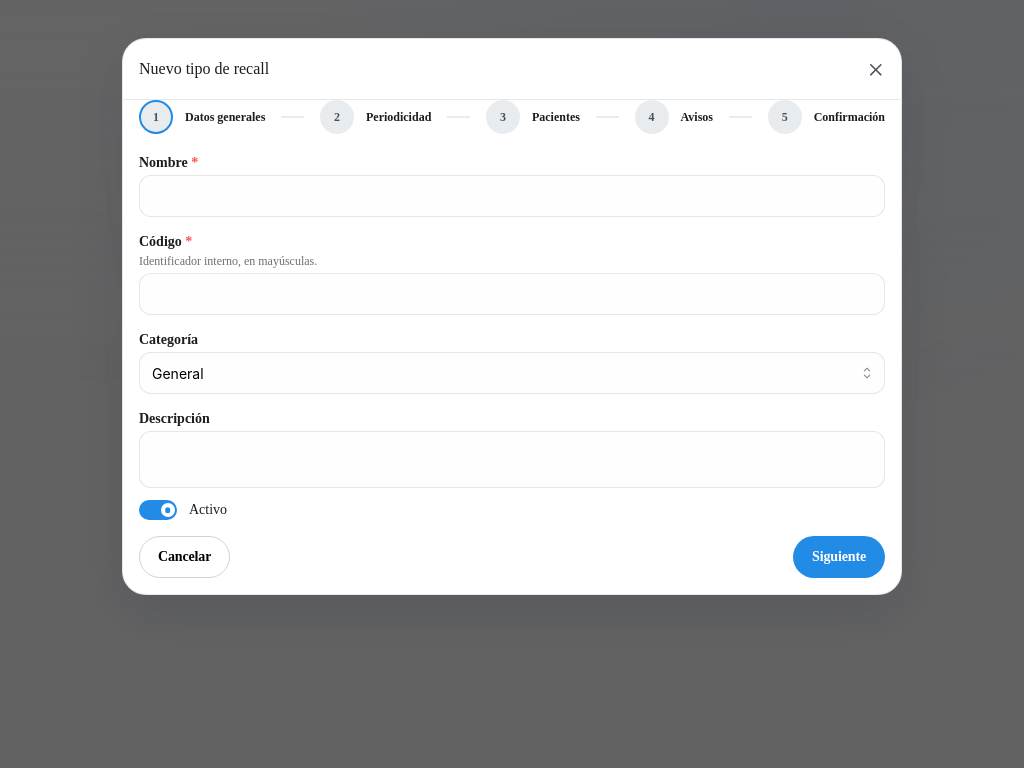
Test: RecallTemplateWizard › exige canal y días cuando se preparan avisos
Type "Higiene semestral" into the field labelled "Nombre *" at (512, 196), box [139, 175, 885, 217]
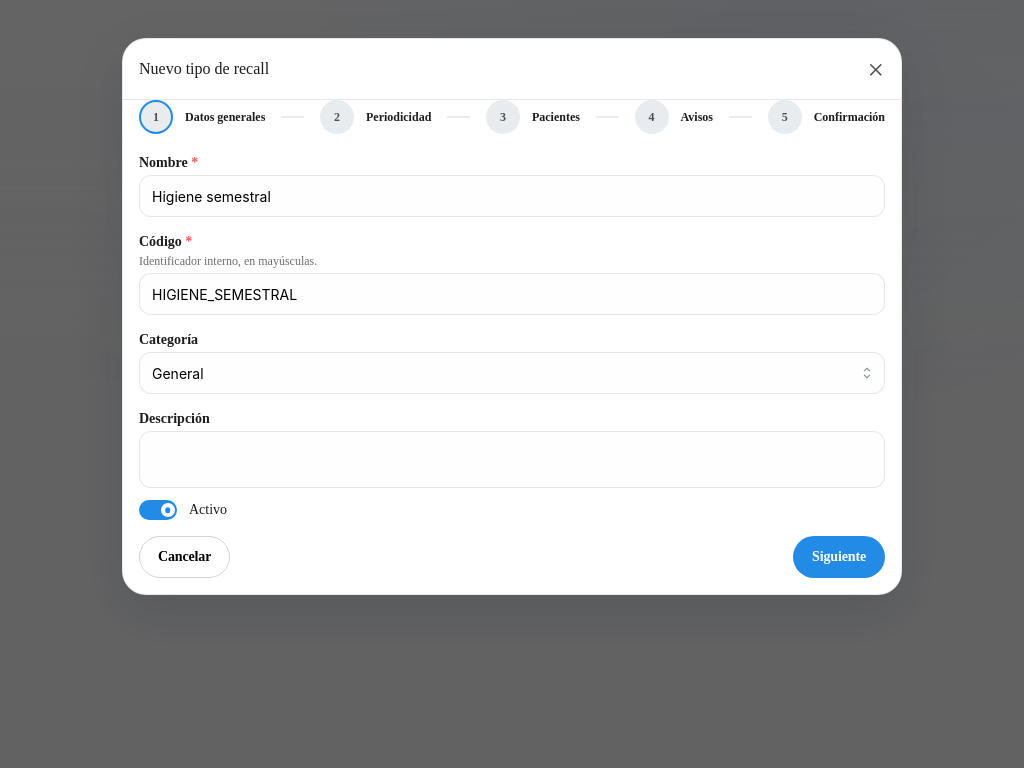
Click the button "Siguiente" at (839, 557), box [793, 536, 885, 578]
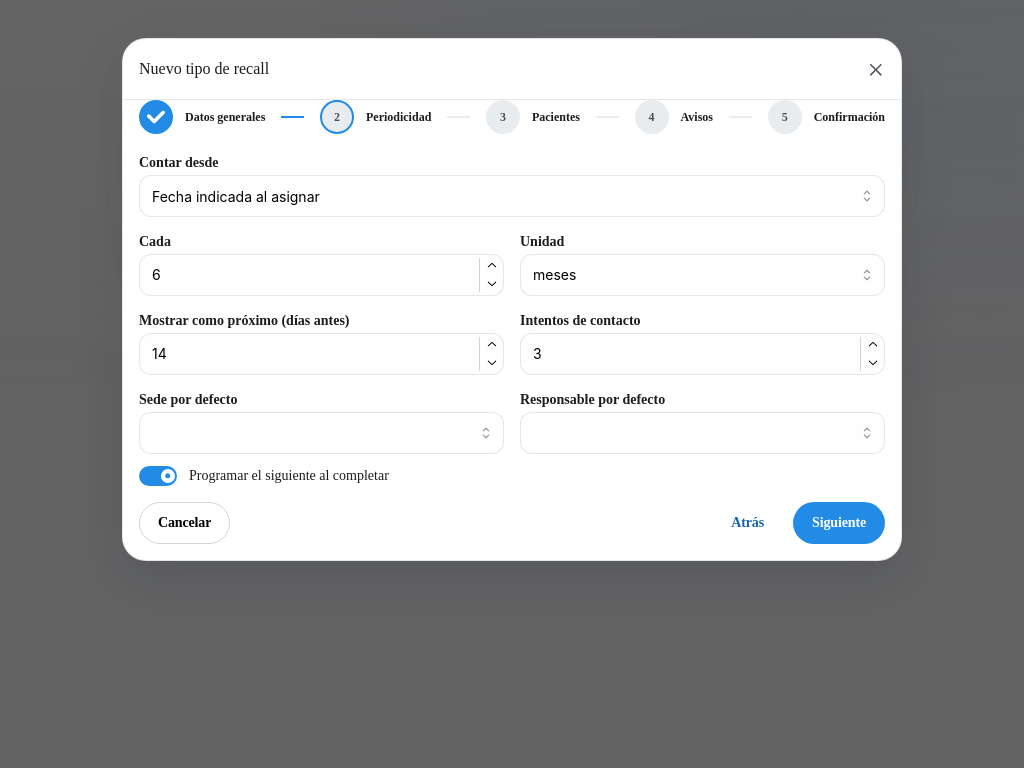
Click the button "Siguiente" at (839, 523), box [793, 502, 885, 544]
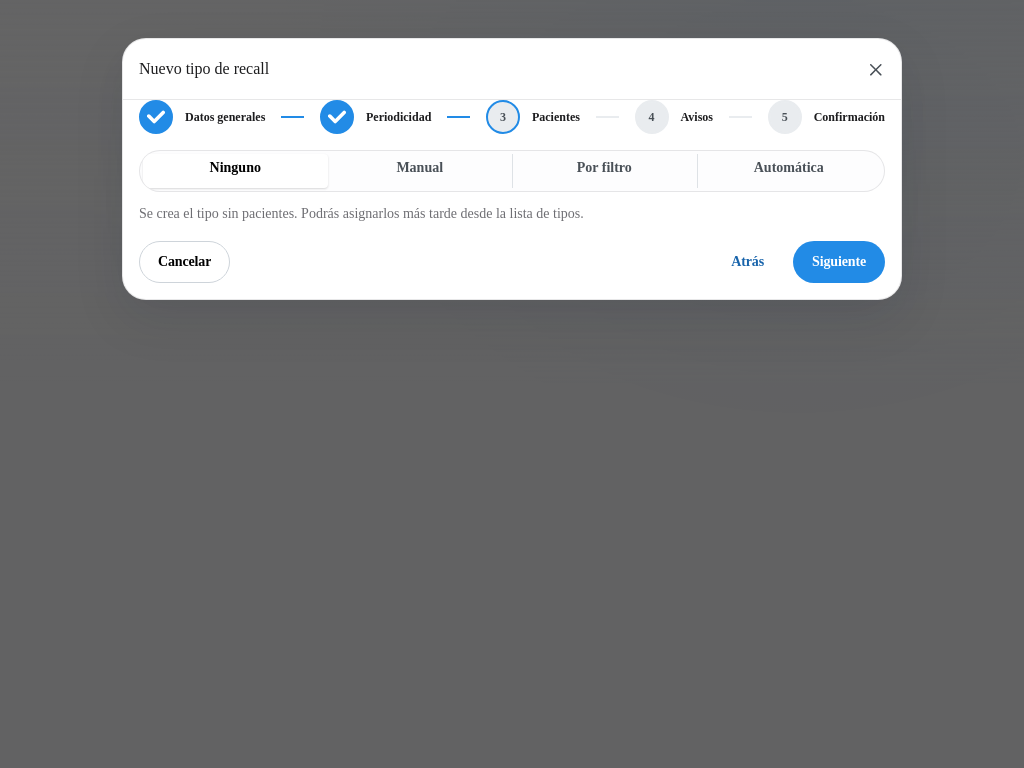
Click the button "Siguiente" at (839, 262), box [793, 241, 885, 283]
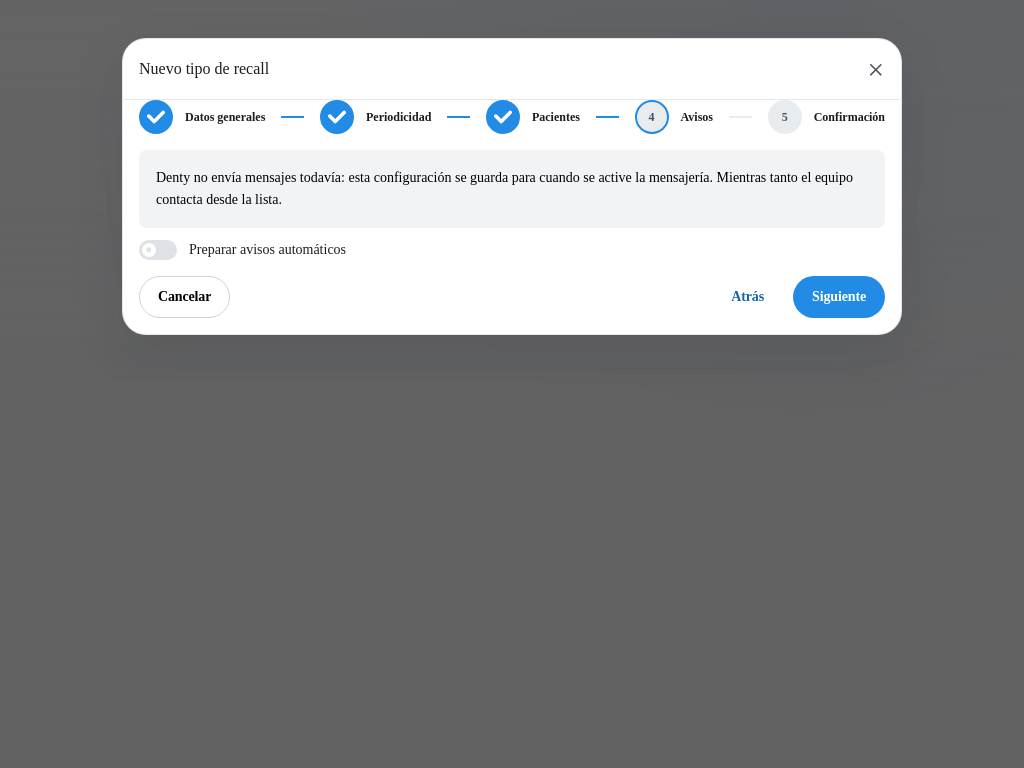
Now the text "Denty no envía mensajes" is shown, box [156, 170, 853, 207]
Click the switch labelled "Preparar avisos automáticos" at (243, 250), box [139, 240, 346, 260]
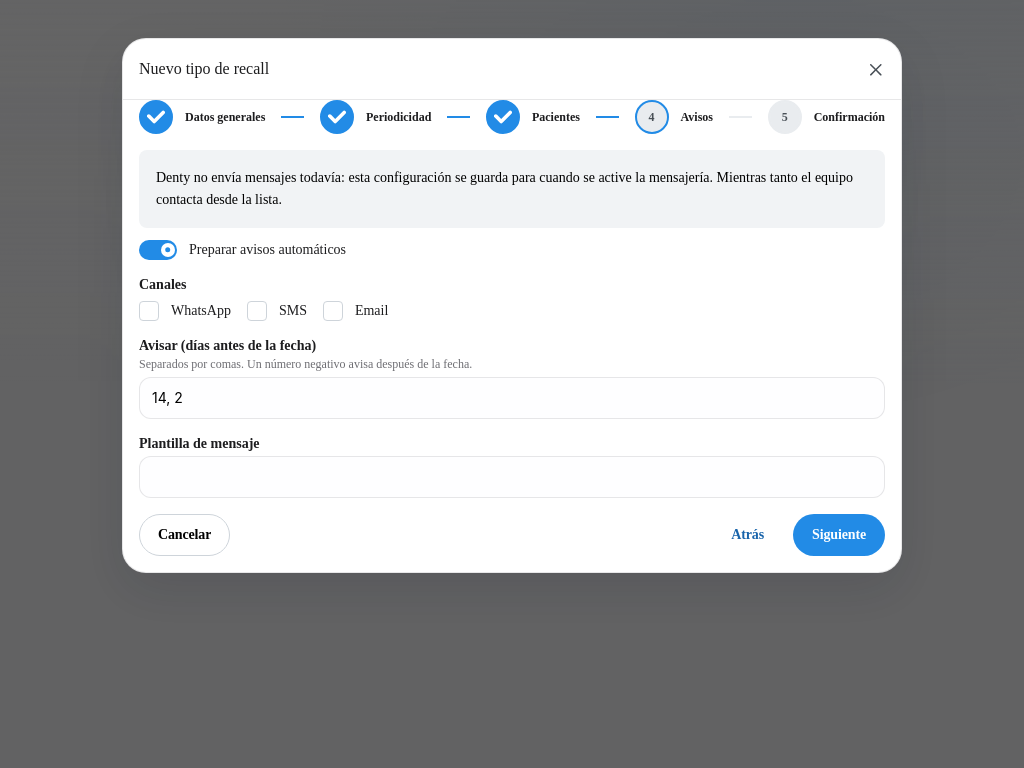
Click the button "Siguiente" at (839, 534), box [793, 514, 885, 556]
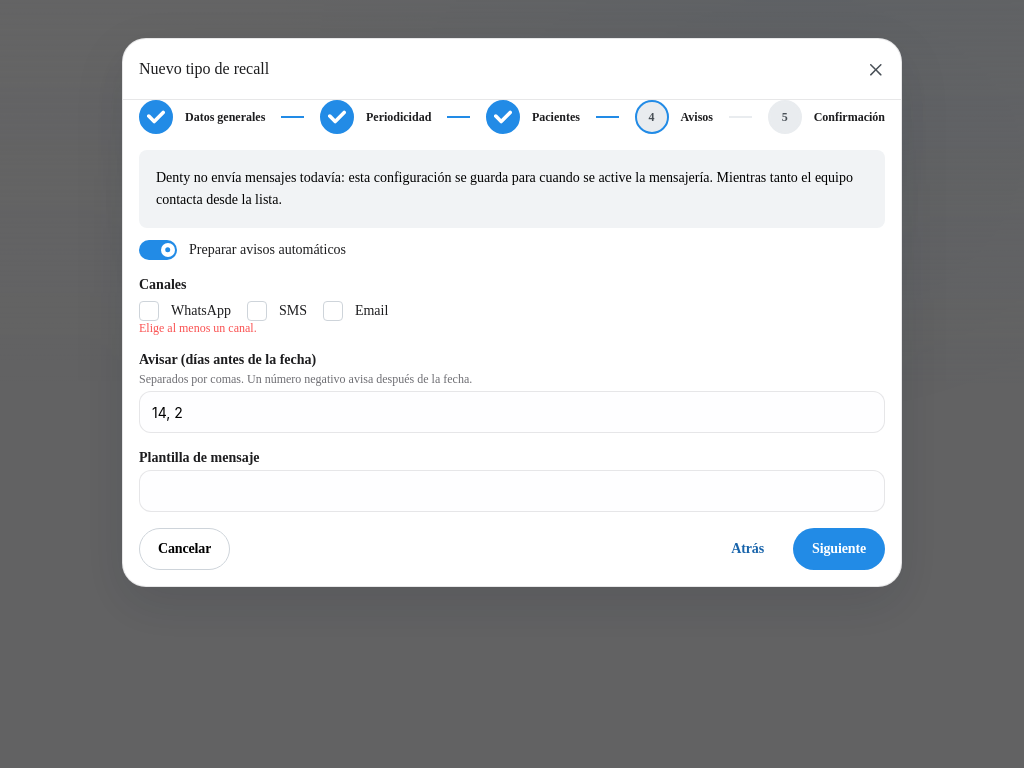
Now the text "Elige al menos un canal." is shown, box [139, 321, 257, 335]
